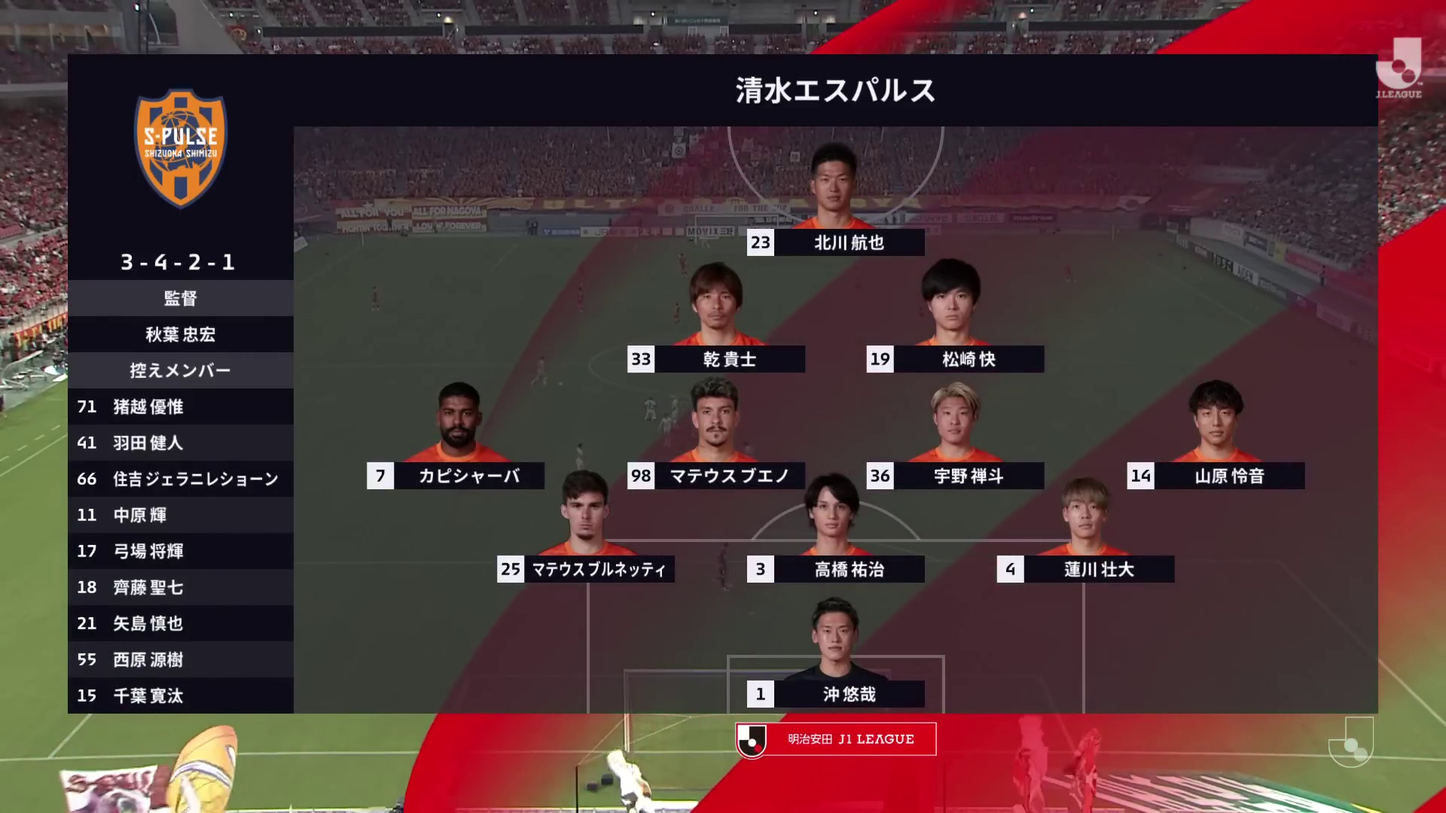player: (370, 285, 382, 311), (401, 221, 411, 240), (359, 229, 368, 247), (431, 220, 440, 237)
